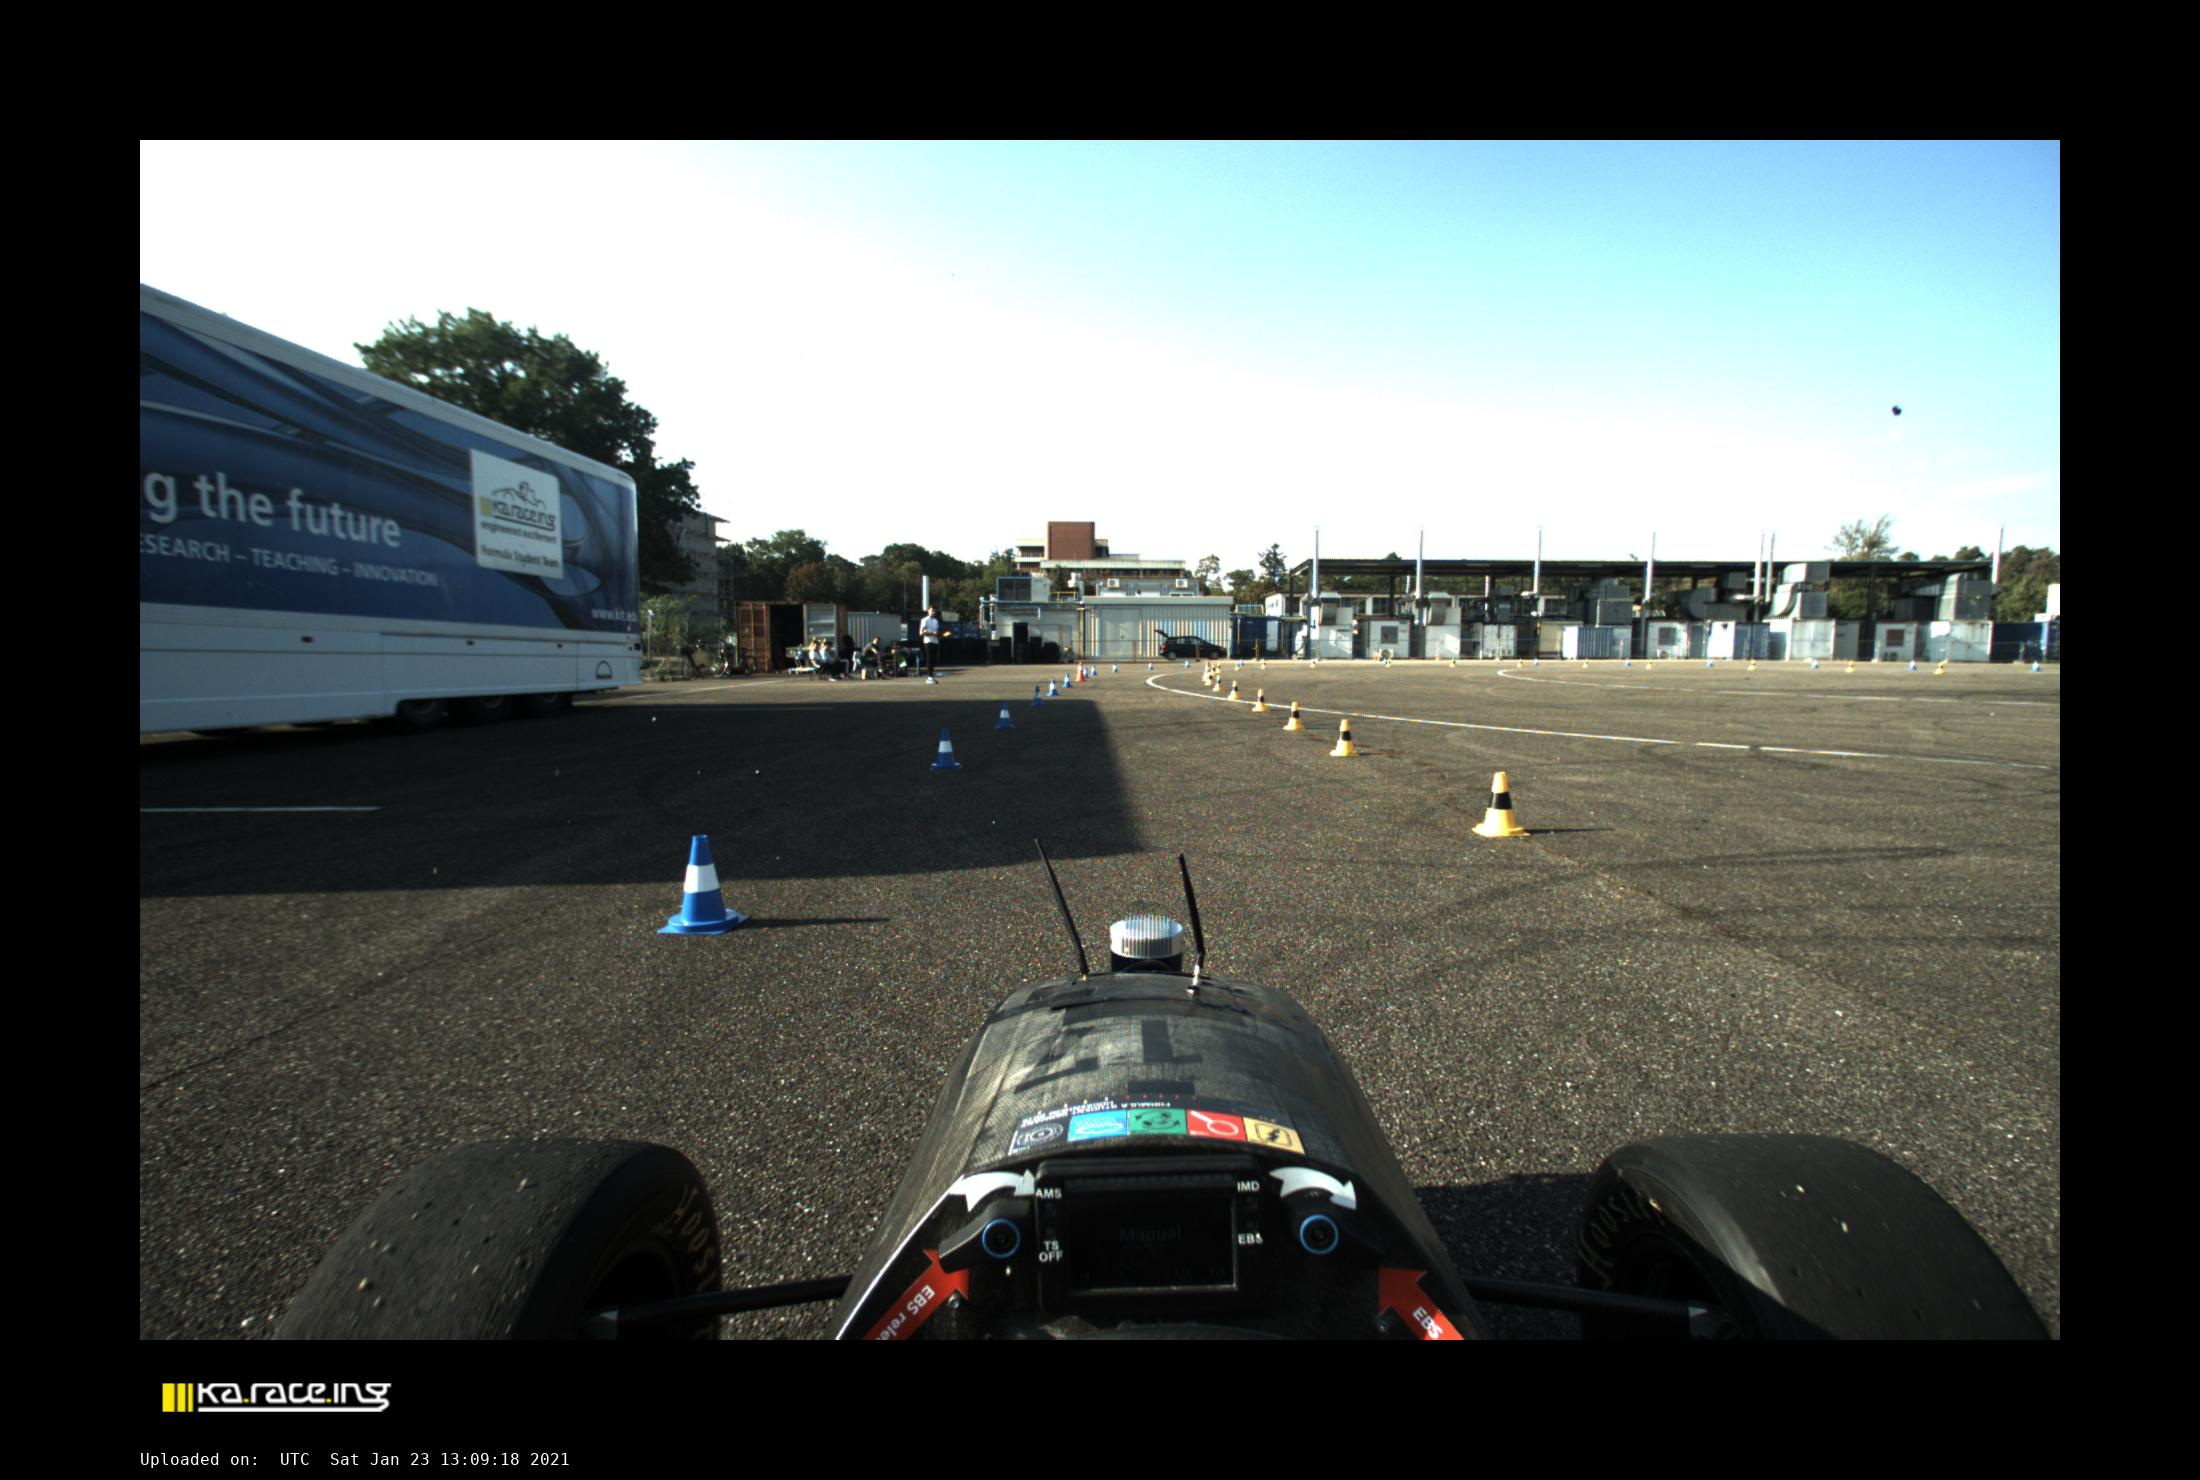blue_cone: (657, 836, 750, 933), (930, 728, 963, 770), (994, 700, 1016, 730), (1031, 685, 1045, 705), (1045, 679, 1060, 695), (1060, 672, 1074, 687), (1908, 659, 1918, 671), (2032, 661, 2041, 671), (1090, 666, 1098, 676), (1810, 657, 1818, 667), (1708, 656, 1714, 667), (1083, 667, 1088, 681), (1112, 662, 1118, 672), (1148, 661, 1155, 671), (1533, 657, 1539, 666), (1184, 659, 1189, 667), (1239, 657, 1244, 666), (1382, 657, 1387, 666), (1625, 657, 1630, 666)
large_orange_cone: (1075, 661, 1087, 682), (1202, 662, 1211, 681)
yellow_cone: (1472, 771, 1529, 836), (1330, 719, 1356, 757), (1283, 700, 1305, 730), (1250, 690, 1268, 712), (1227, 681, 1240, 700), (1212, 676, 1222, 690), (1845, 661, 1855, 672), (808, 636, 818, 647), (1936, 662, 1944, 674), (1206, 672, 1212, 685), (1747, 661, 1756, 671), (1516, 657, 1524, 667), (1260, 657, 1267, 669), (1582, 657, 1589, 667), (1450, 657, 1457, 667), (1310, 657, 1316, 667), (1211, 664, 1216, 676), (1647, 661, 1653, 669), (1234, 662, 1240, 671), (1386, 657, 1391, 667), (1216, 662, 1221, 672)
